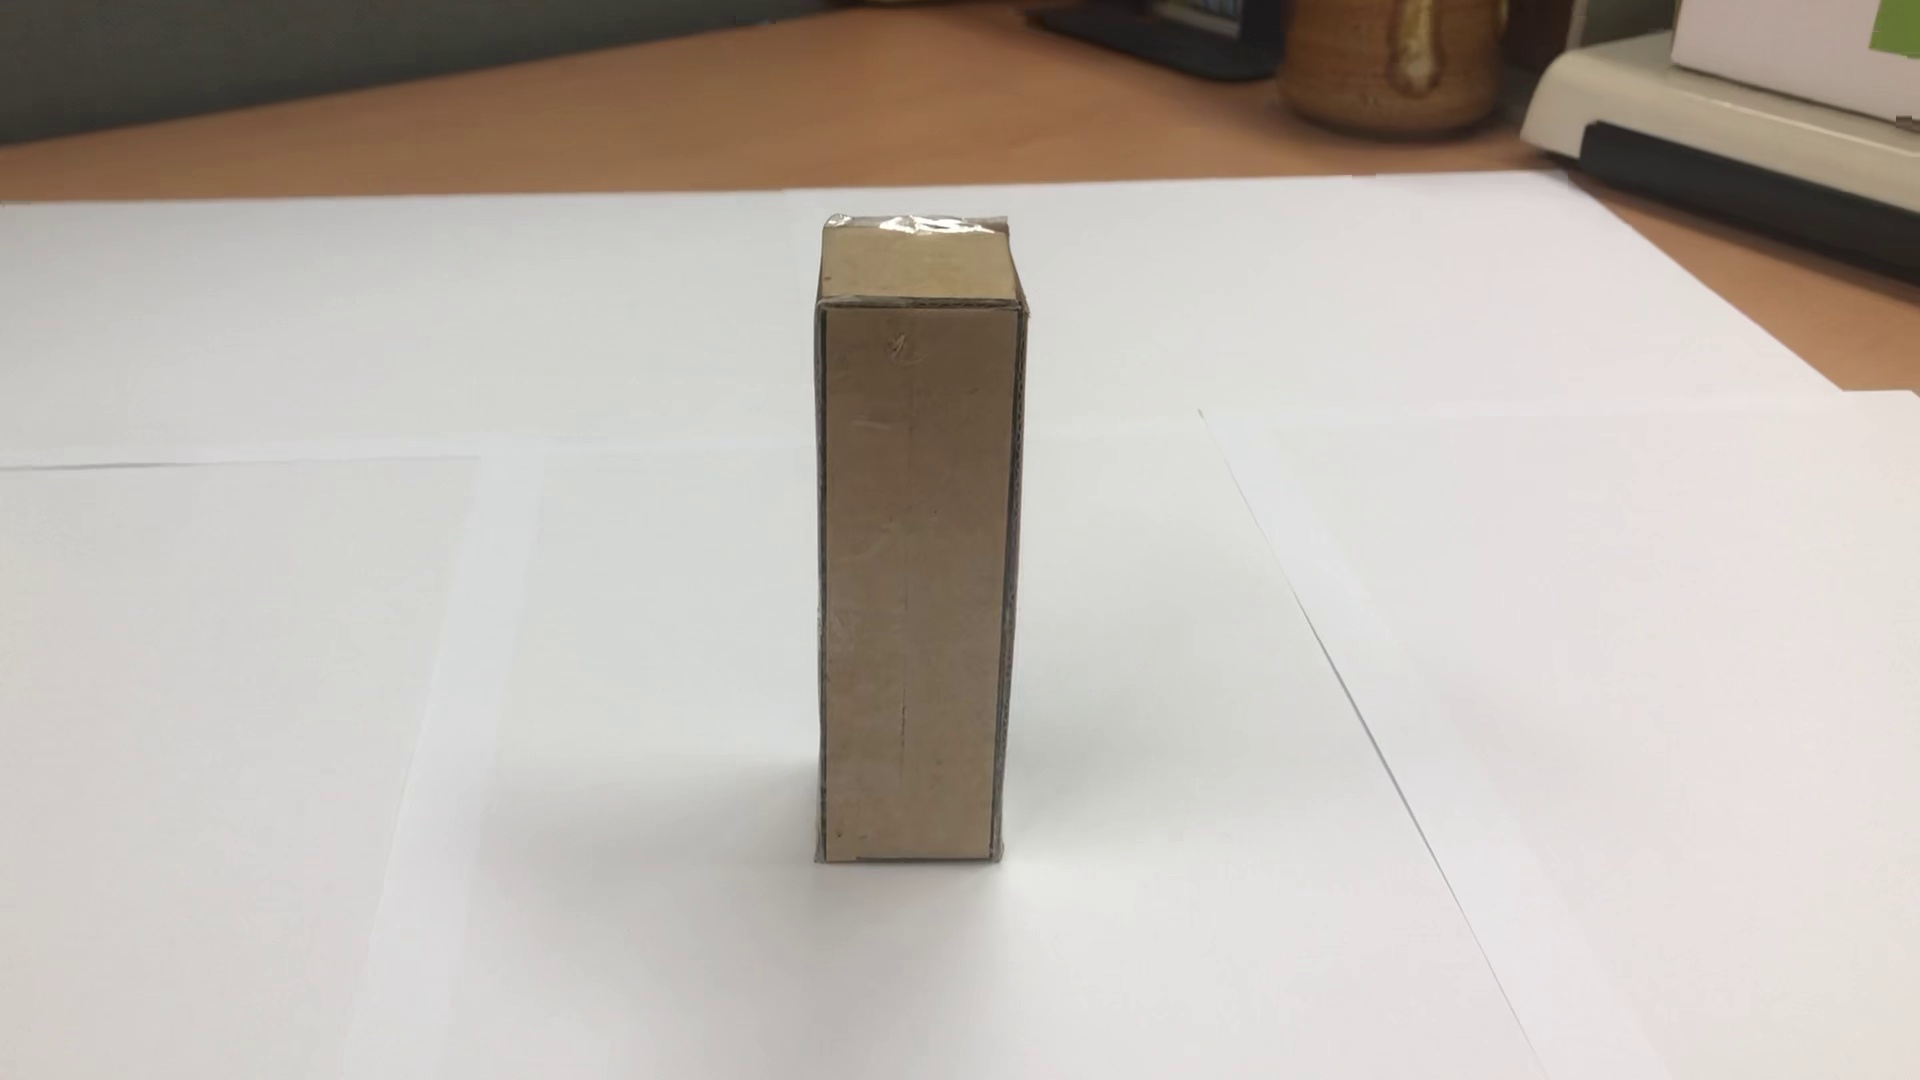box: (789, 210, 1047, 889)
